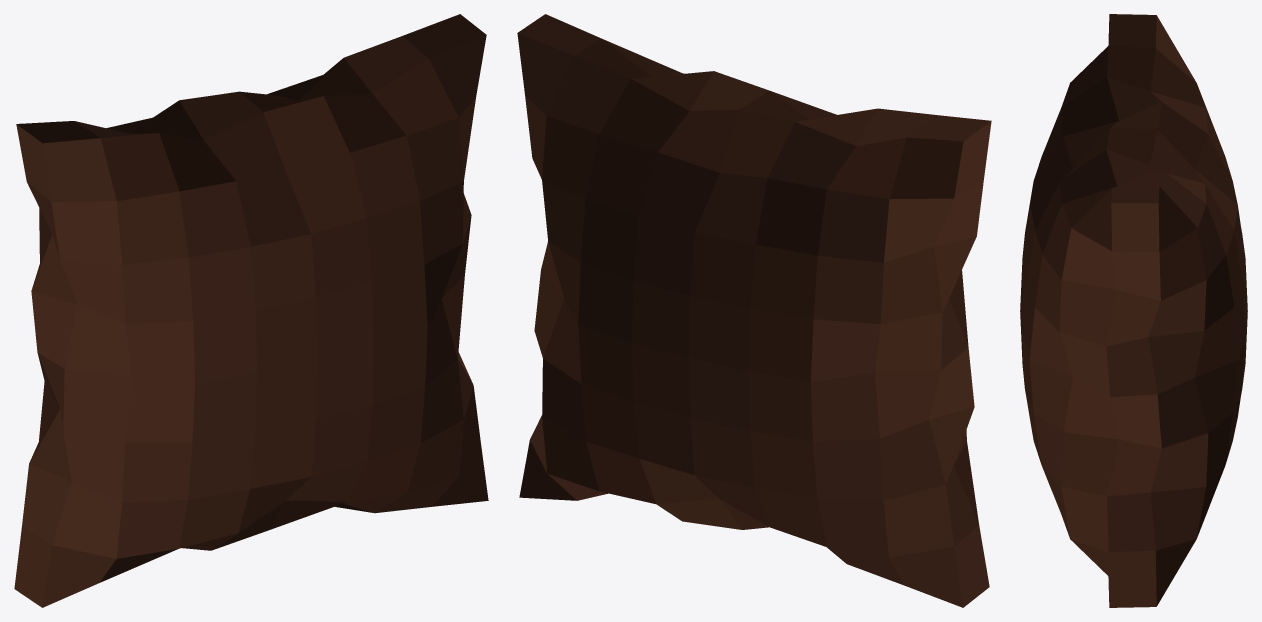
Rendered from Pillow 17.fbx.
The picture shows the model from 3 angles, left to right: view 1: azimuth 30°, elevation 25°; view 2: azimuth 150°, elevation 25°; view 3: azimuth 270°, elevation 25°; orthographic projection. The views are drawn at different scales.
Visible parts, largest first — view 1: Node 0; view 2: Node 0; view 3: Node 0.
Boxes of the visible parts, x1=… form: Node 0: x1=14, y1=14, x2=488, y2=607; Node 0: x1=517, y1=14, x2=991, y2=607; Node 0: x1=1020, y1=14, x2=1247, y2=607.
Size of the model in its own units: 0.303 by 0.5949 by 0.5951.
